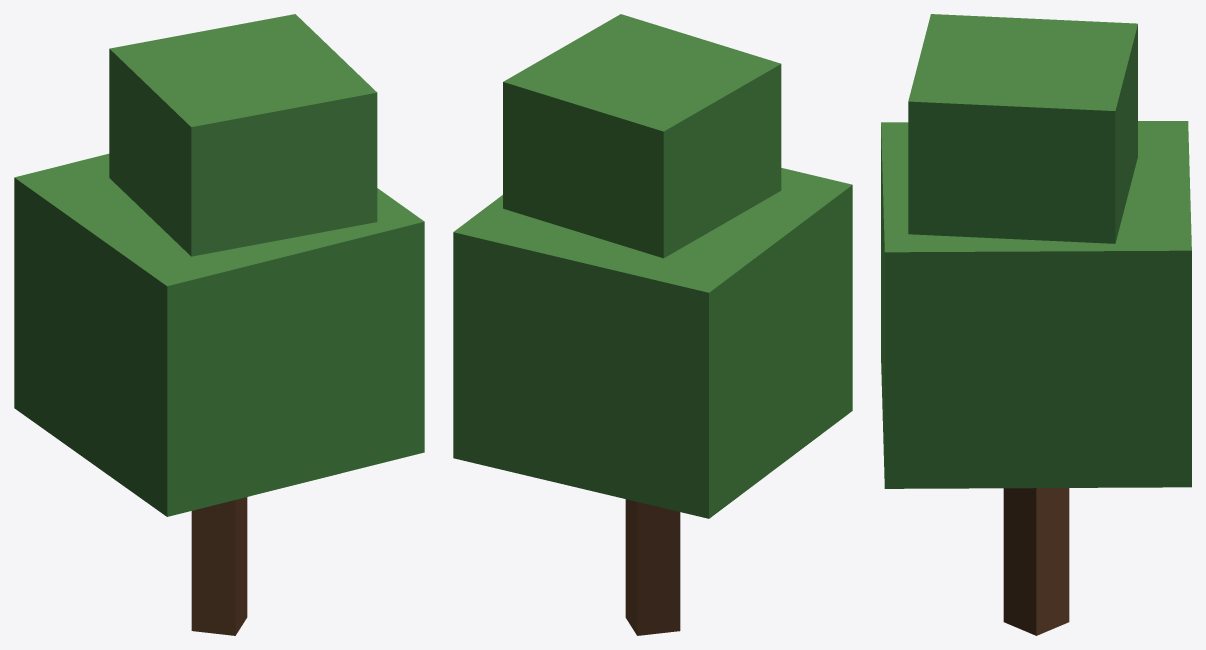
Rendered from tree_blocks_dark.glb.
3 views of the same model, side by side, from view 1: azimuth 30°, elevation 25°; view 2: azimuth 150°, elevation 25°; view 3: azimuth 270°, elevation 25° (orthographic). The views are drawn at different scales.
Visible parts, largest first — view 1: tree_blocks_dark; view 2: tree_blocks_dark; view 3: tree_blocks_dark.
Part boxes in pixels (x1,y1,x2,y2): tree_blocks_dark: (14,14,424,635); tree_blocks_dark: (453,14,852,635); tree_blocks_dark: (881,14,1191,635).
Bounding box in the file's own units: 0.5668 × 1.14 × 0.5668.
1 material, 1 textured.
